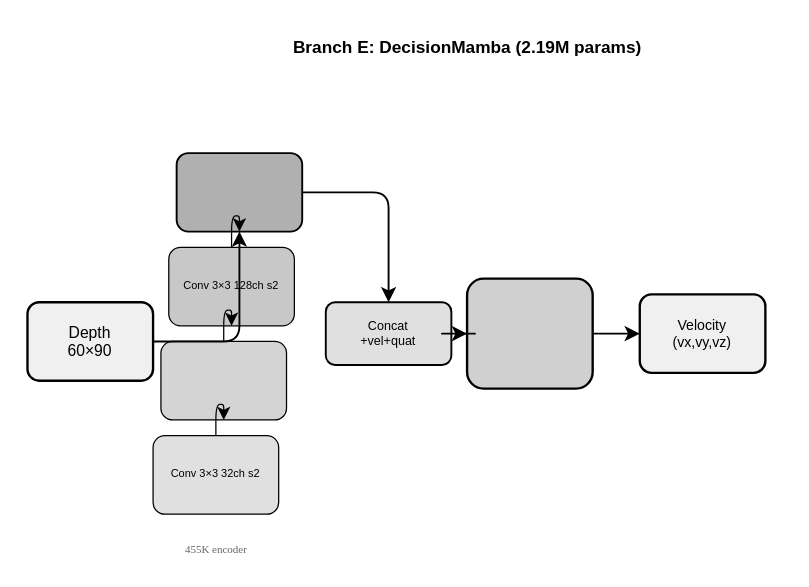
The diagram is 809 pixels wide and 587 high, and some of its shapes have lost their labels. Here are the shapes that lost their labels. From the top down, the centre of each, then its label:
the point at 238,191: Conv 3×3 256ch +AP
the point at 529,333: SSM d=16 ×2
the point at 223,380: Conv 3×3 64ch s2
